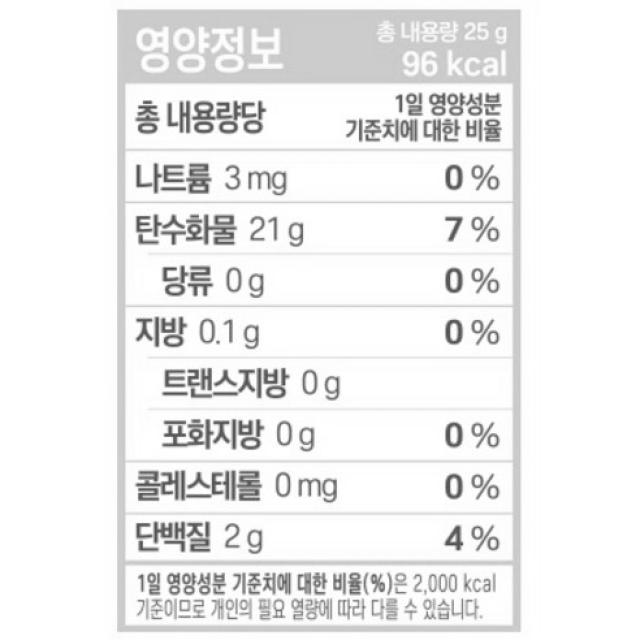Nutrition Label: (109, 4, 525, 633)
